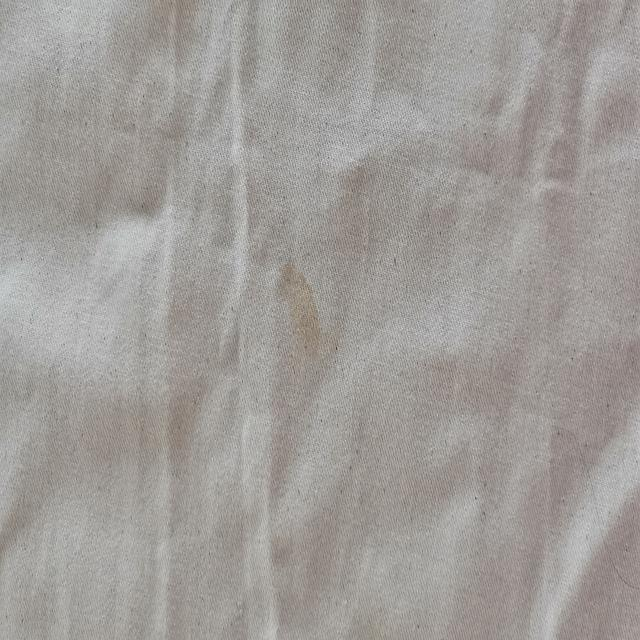taaaches: (272, 251, 320, 379)
